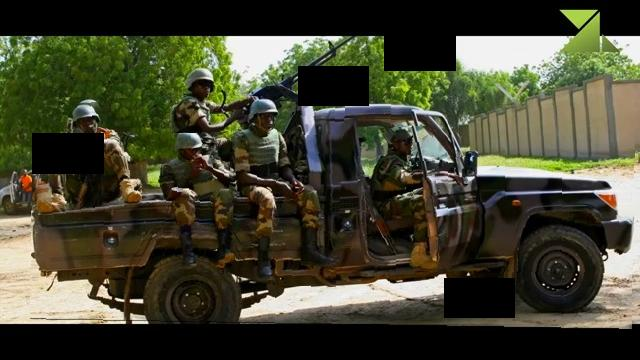MIL_HMMWV: (31, 99, 634, 327), (227, 97, 343, 287), (30, 101, 142, 214), (157, 129, 243, 273), (369, 126, 439, 273), (170, 66, 249, 132)
